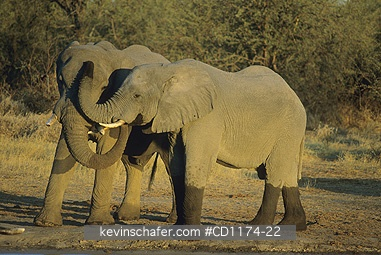elephant: (76, 60, 307, 231), (33, 37, 171, 228)
